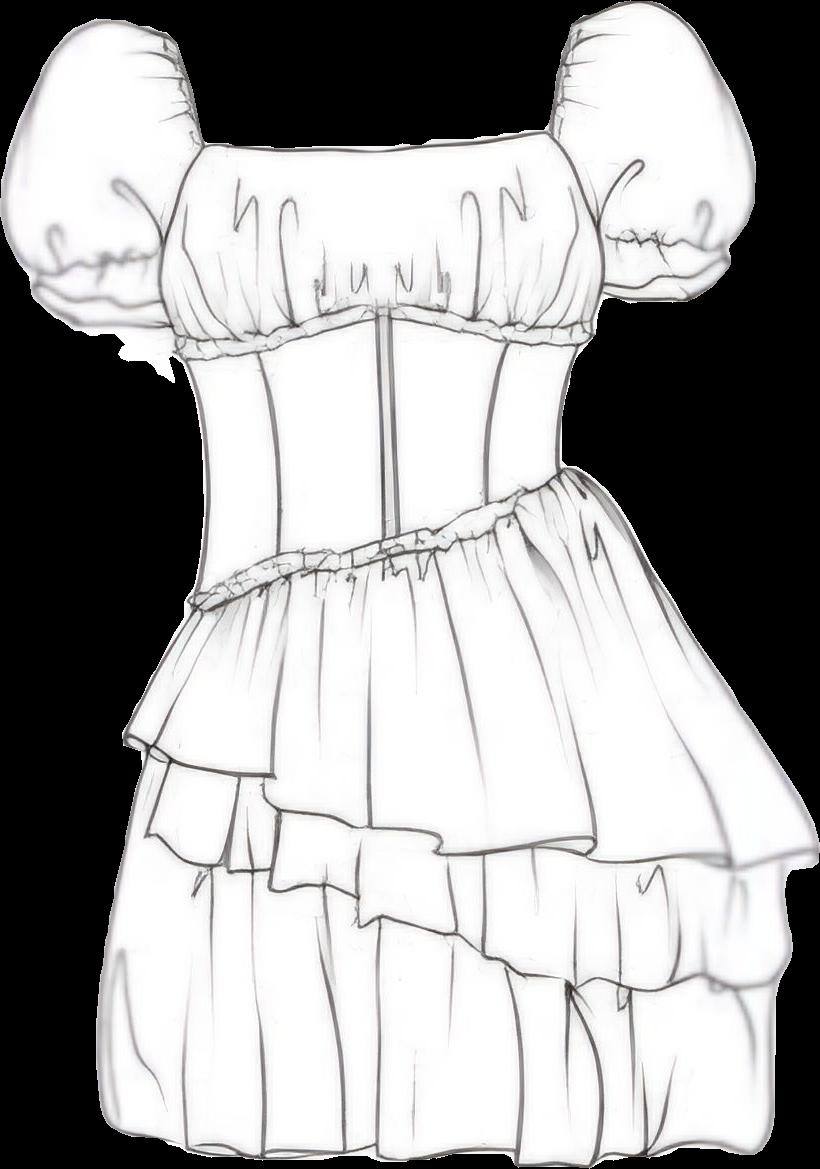Bodice: (156, 129, 606, 593)
Hemline: (130, 823, 784, 1000), (118, 728, 819, 871), (91, 1106, 774, 1168)
Neckline: (175, 310, 595, 366), (200, 121, 554, 161)
Skirt: (95, 465, 818, 1167)
Sleeve: (0, 19, 204, 336), (544, 1, 755, 302)
Sleeveline: (543, 16, 613, 284), (151, 31, 207, 309)
Waistline: (190, 457, 572, 604)
